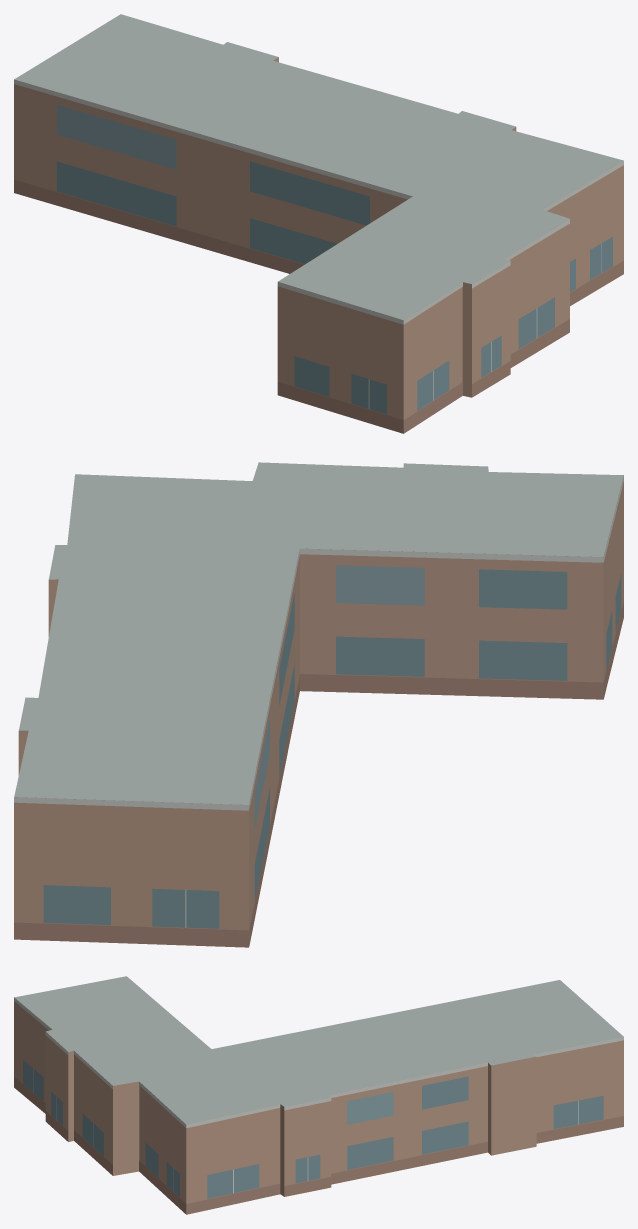
File: survey-upis-32969881.glb
The picture shows the model from 3 angles, top to bottom: view 1: azimuth 30°, elevation 25°; view 2: azimuth 150°, elevation 25°; view 3: azimuth 270°, elevation 25°; orthographic projection. The views are drawn at different scales.
Visible parts, largest first — view 1: survey-upis-32969881.tmp; view 2: survey-upis-32969881.tmp; view 3: survey-upis-32969881.tmp.
Part boxes in pixels (x1,y1,x2,y2): survey-upis-32969881.tmp: (14, 14, 623, 433); survey-upis-32969881.tmp: (14, 462, 623, 947); survey-upis-32969881.tmp: (14, 976, 623, 1214).
Bounding box in the file's own units: 21.58 × 6.1 × 37.43.
